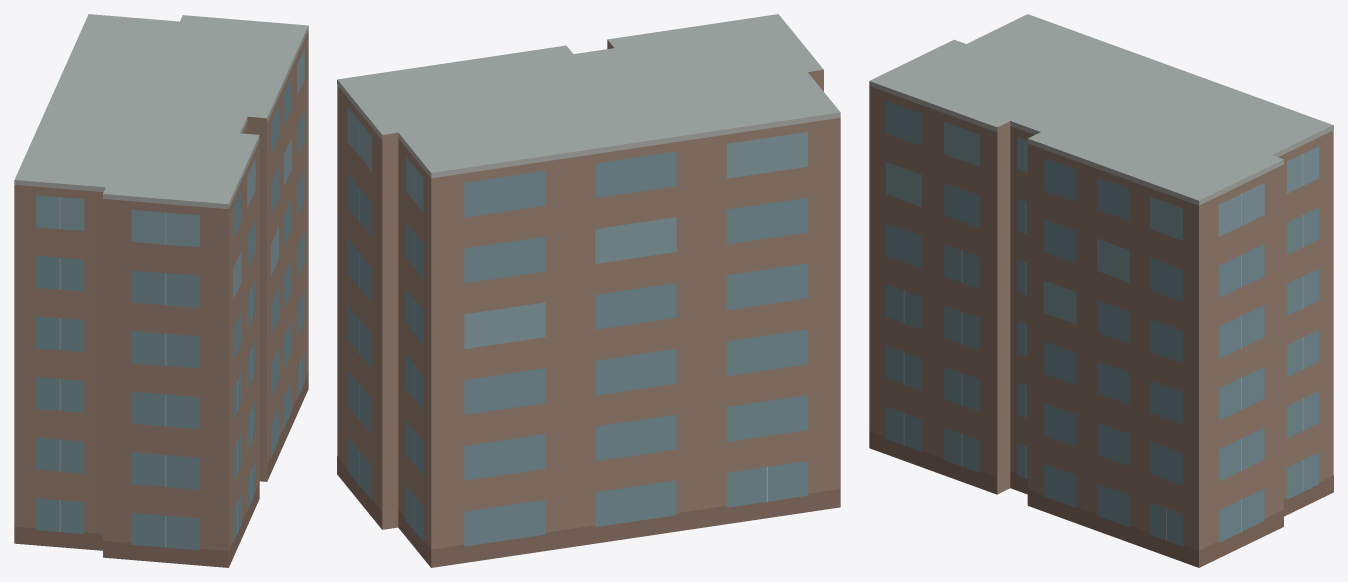
The model's file is survey-upis-32977810.glb.
The picture shows the model from 3 angles, left to right: view 1: azimuth 30°, elevation 25°; view 2: azimuth 150°, elevation 25°; view 3: azimuth 270°, elevation 25°; orthographic projection. The views are drawn at different scales.
Visible parts, largest first — view 1: survey-upis-32977810.tmp; view 2: survey-upis-32977810.tmp; view 3: survey-upis-32977810.tmp.
Boxes of the visible parts, x1=… form: survey-upis-32977810.tmp: x1=14, y1=14, x2=308, y2=567; survey-upis-32977810.tmp: x1=337, y1=14, x2=840, y2=567; survey-upis-32977810.tmp: x1=869, y1=14, x2=1333, y2=567.
Bounding box in the file's own units: 19.74 × 18.1 × 20.76.
